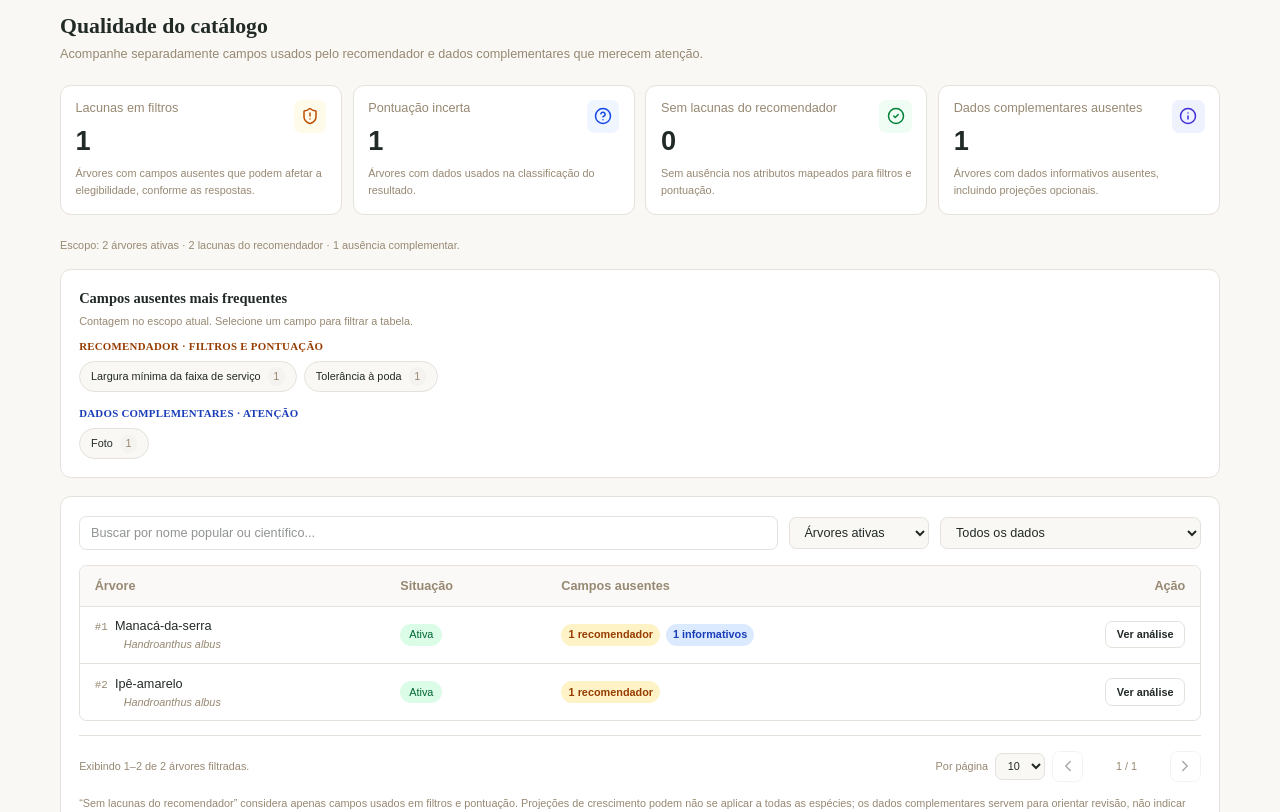
Test: AdminTreeQualityPage › filters trees by search and recommendation impact
The image size is (1280, 812).
Type "ipê" into the field with placeholder "Buscar por nome popular ou científico..." at (428, 533), box [79,516,778,550]
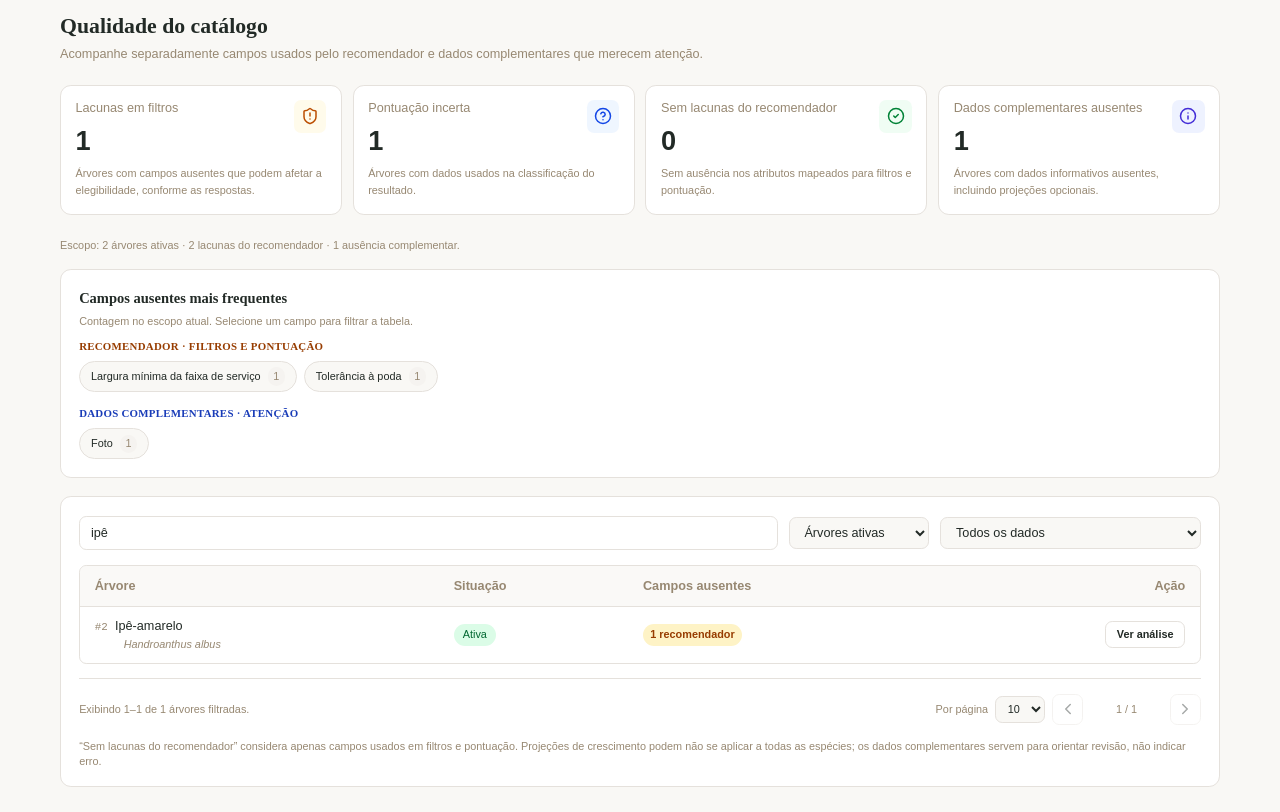
Expected: the text "Ipê-amarelo" is shown, [115,620,182,634]
Result: the text "Manacá-da-serra" is gone
Select "Afetam filtros" in the dropdown named "Filtrar por tipo de dado ausente" at (1070, 533), box [940,517,1201,549]
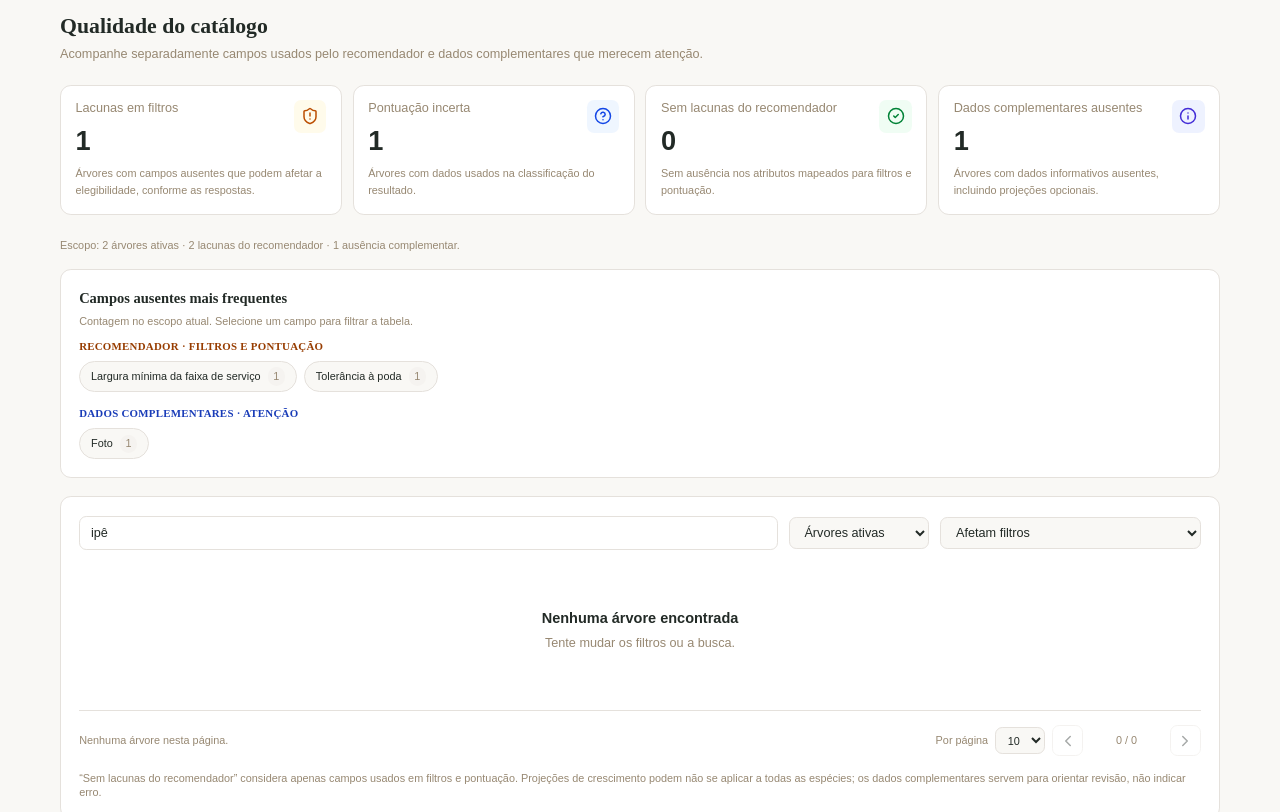
Result: the text "Ipê-amarelo" is gone
